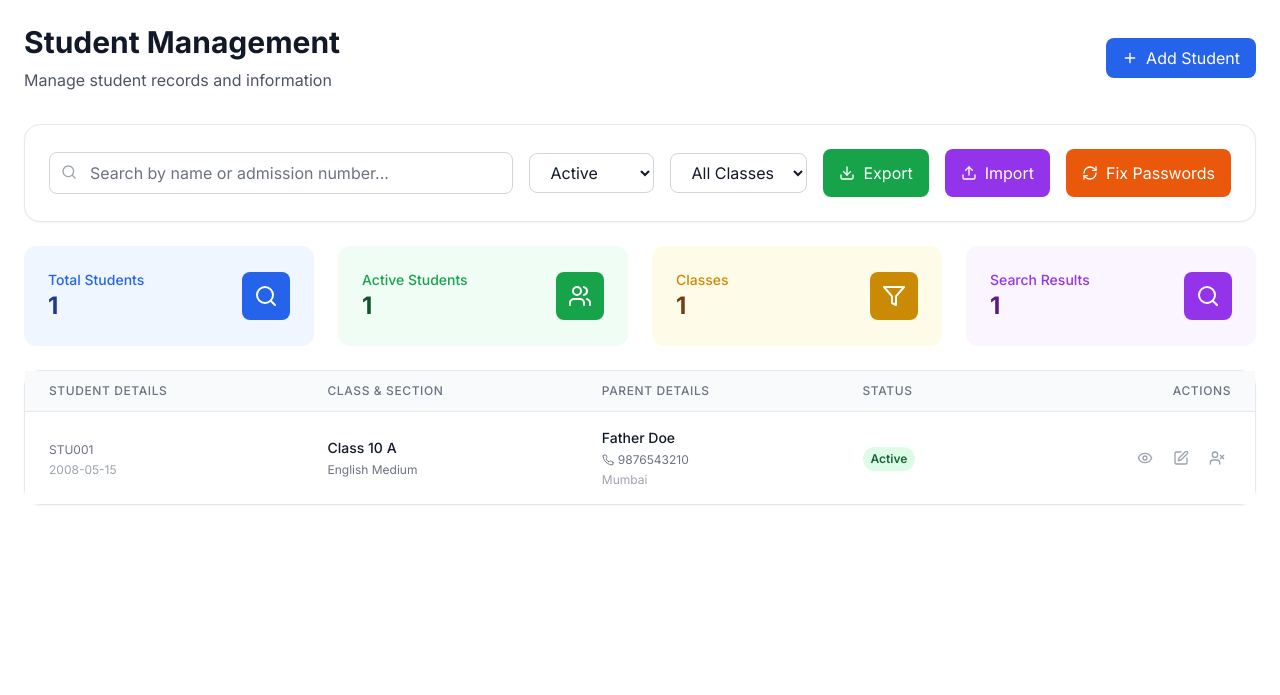
Test: StudentManagement Component › Add Student Button › should open student form when Add Student button is clicked
Click the button "Add Student" at (1181, 58), box left=1106, top=38, right=1256, bottom=78
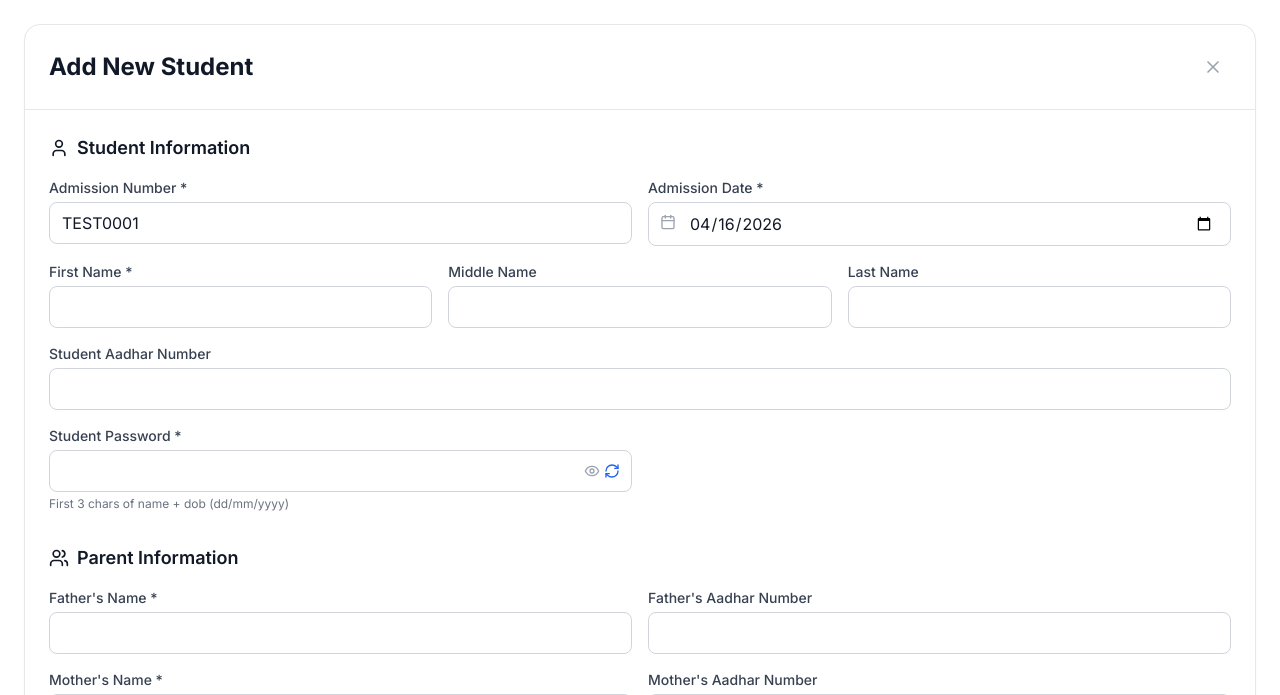
Check: the heading "Add New Student" is shown, box left=49, top=51, right=253, bottom=83
